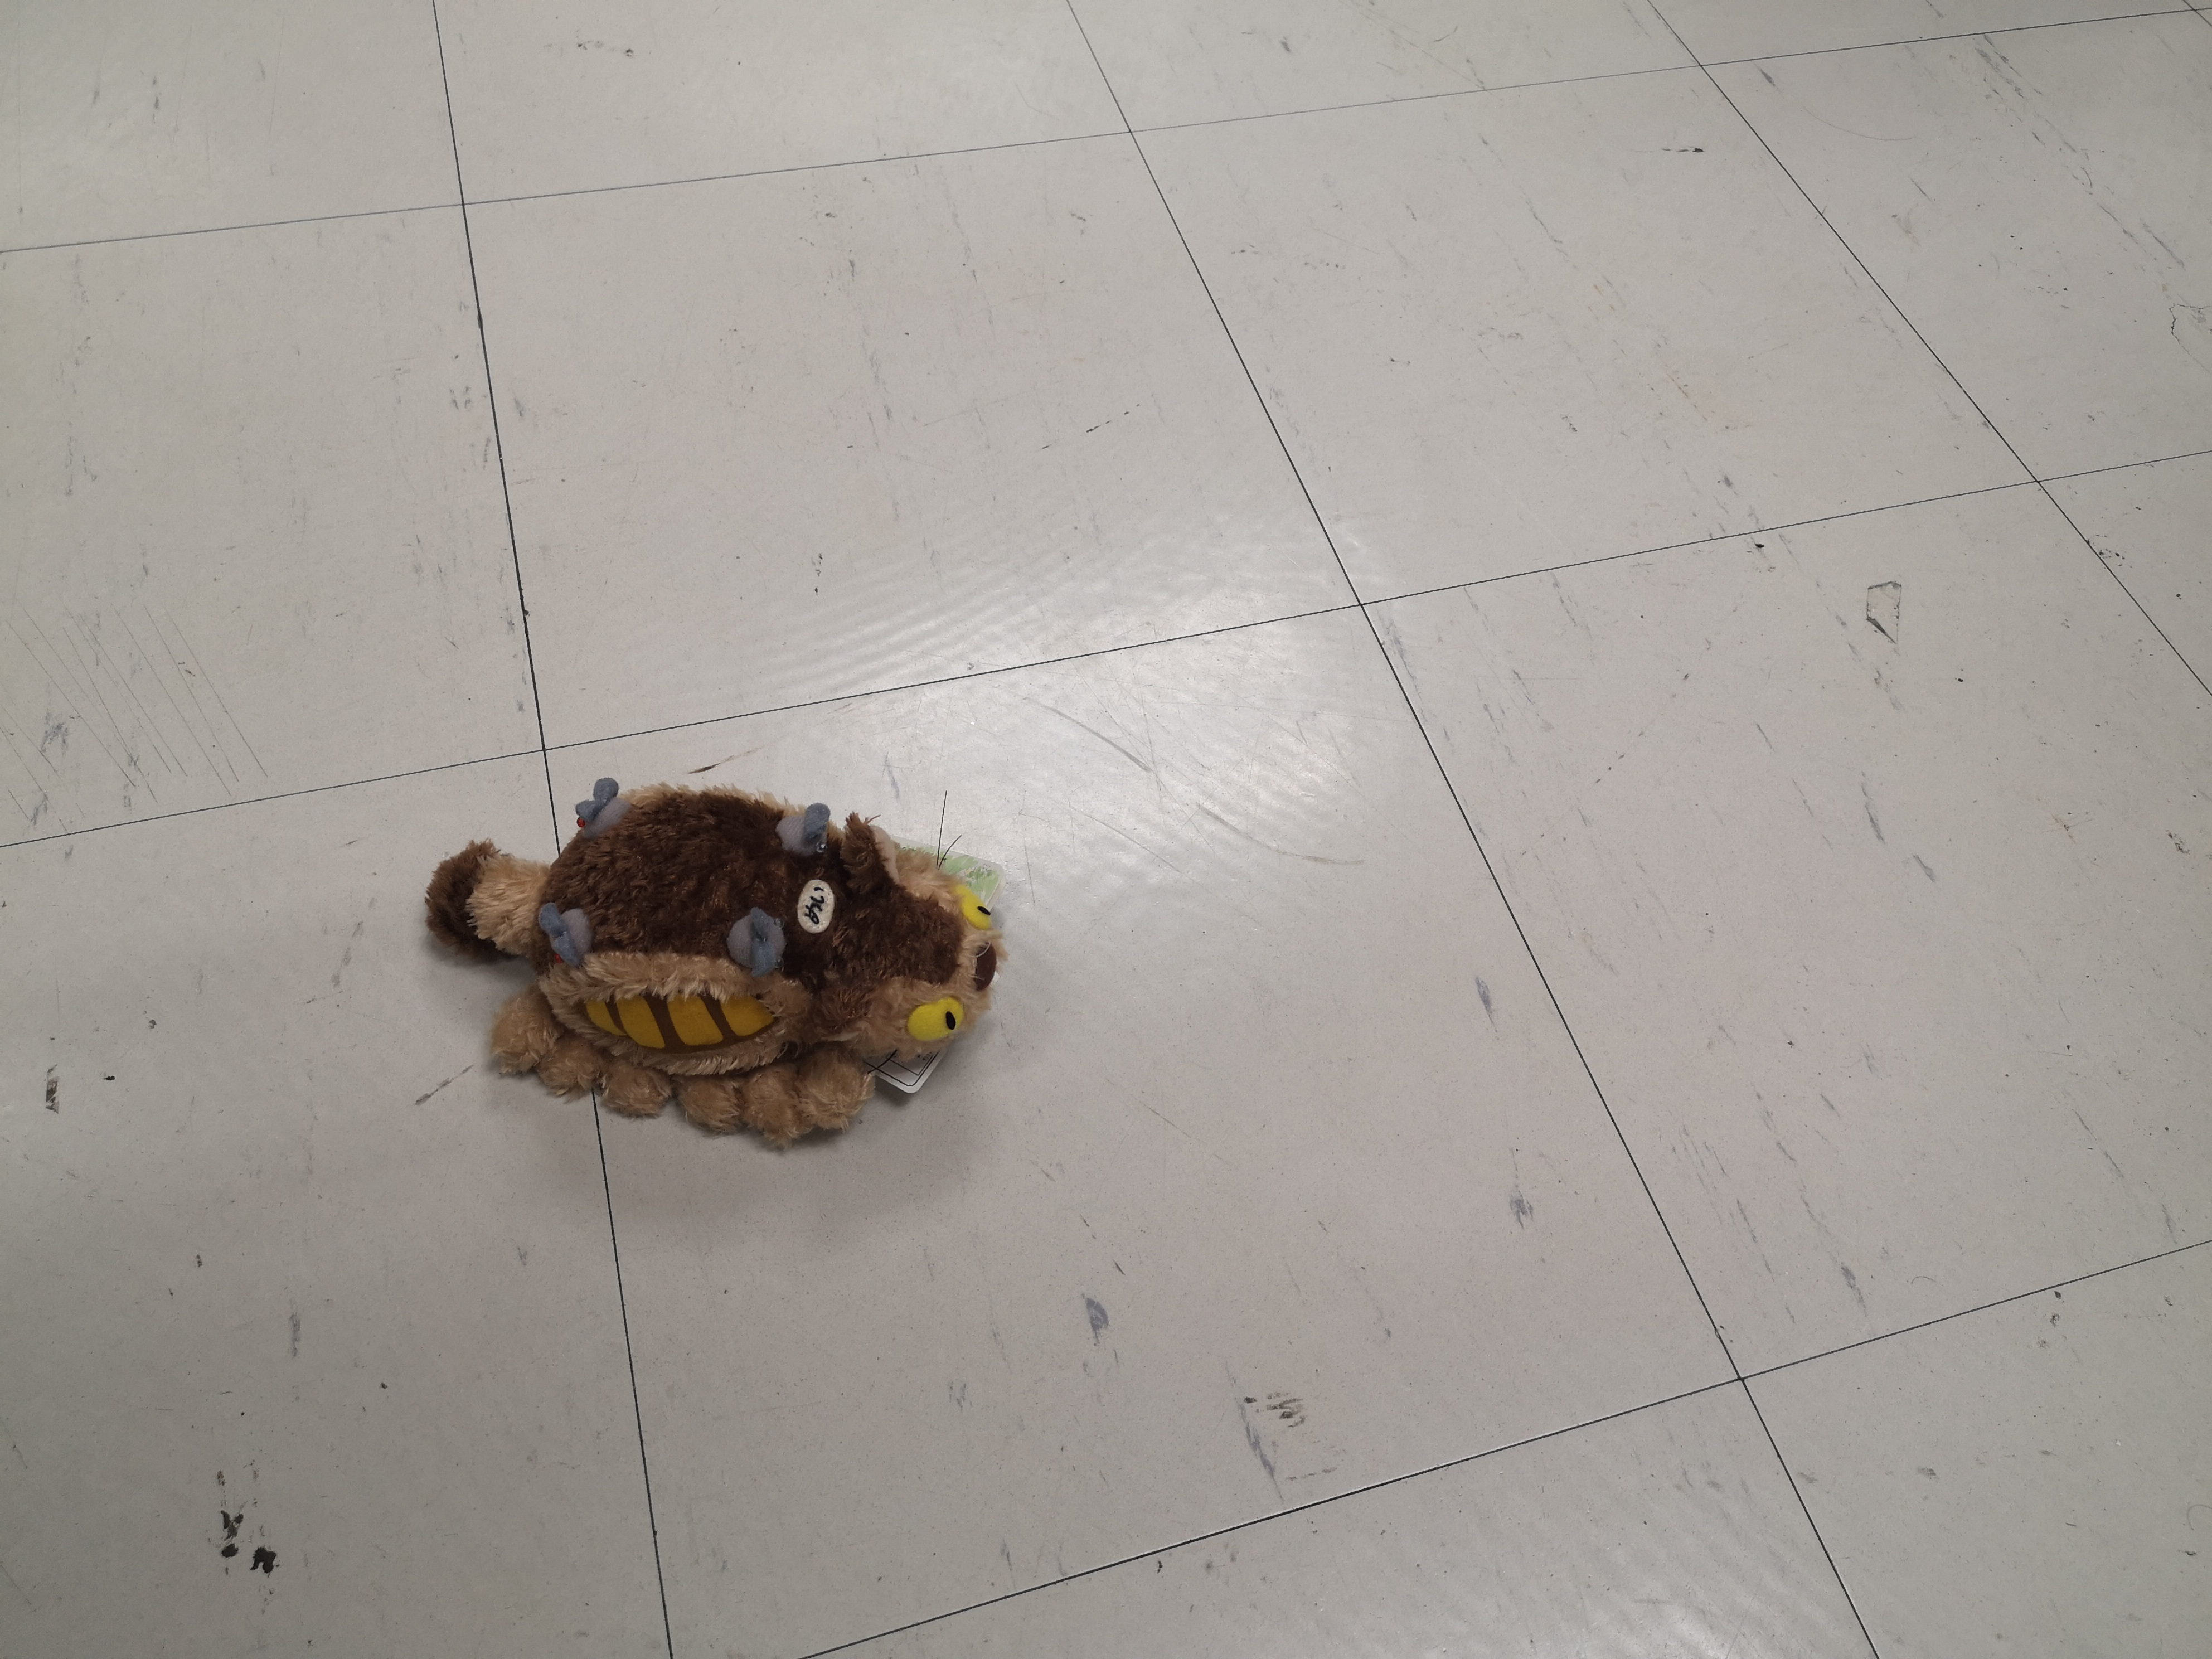nekobus: (416, 772, 1010, 1152)
